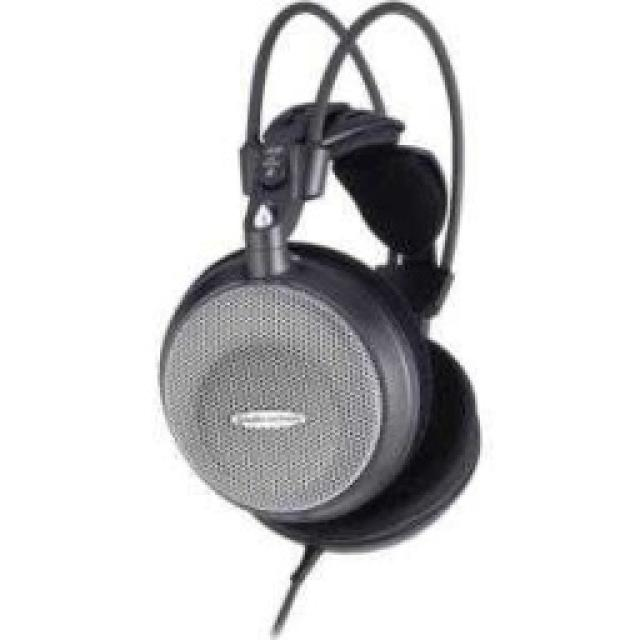headphones: (155, 0, 480, 552)
